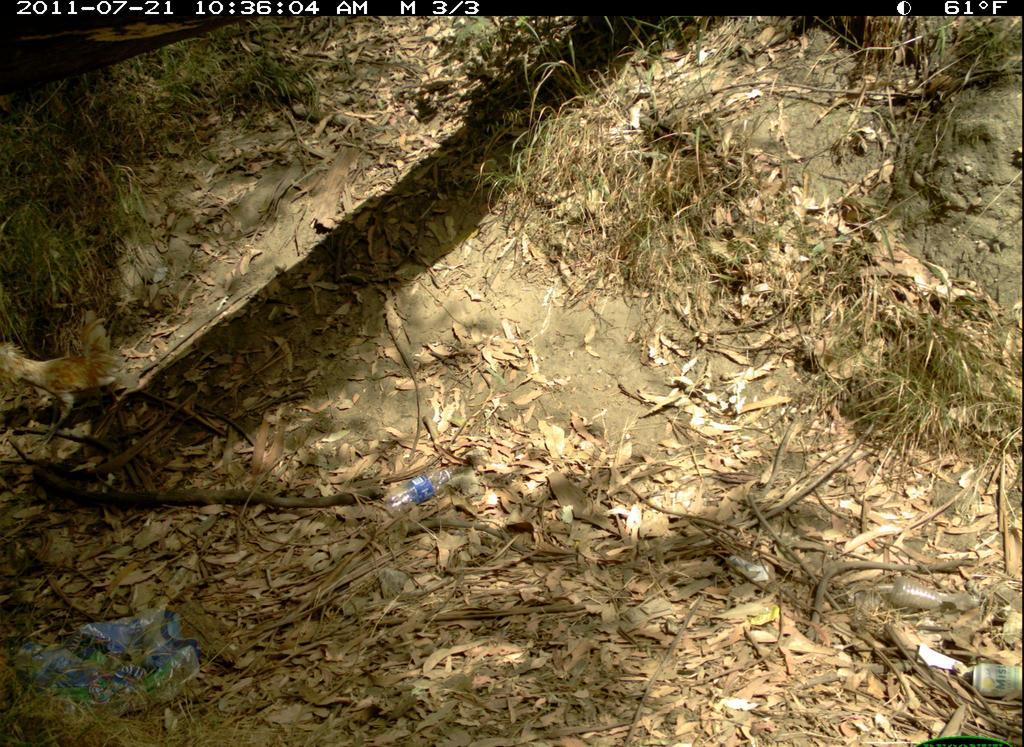bird: (1, 309, 140, 439)
